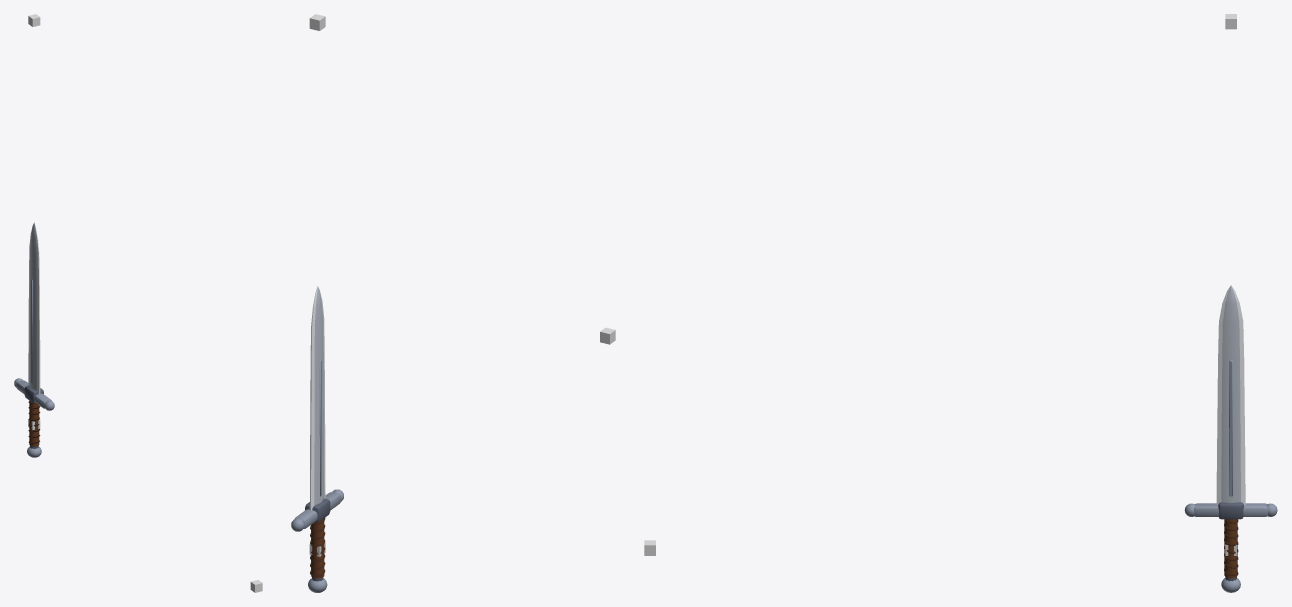
File: Sword.fbx
The picture shows the model from 3 angles, left to right: view 1: azimuth 30°, elevation 25°; view 2: azimuth 150°, elevation 25°; view 3: azimuth 270°, elevation 25°; orthographic projection. The views are drawn at different scales.
Parts seen in each view (by area): view 1: Body; view 2: Body; view 3: Body.
Part boxes in pixels (bbox=[...]): Body: bbox=[14, 222, 54, 457]; Body: bbox=[291, 286, 343, 592]; Body: bbox=[1184, 285, 1277, 592].
Size of the model in its own units: 0.34 by 10.93 by 10.9.
1 material, 1 textured.
